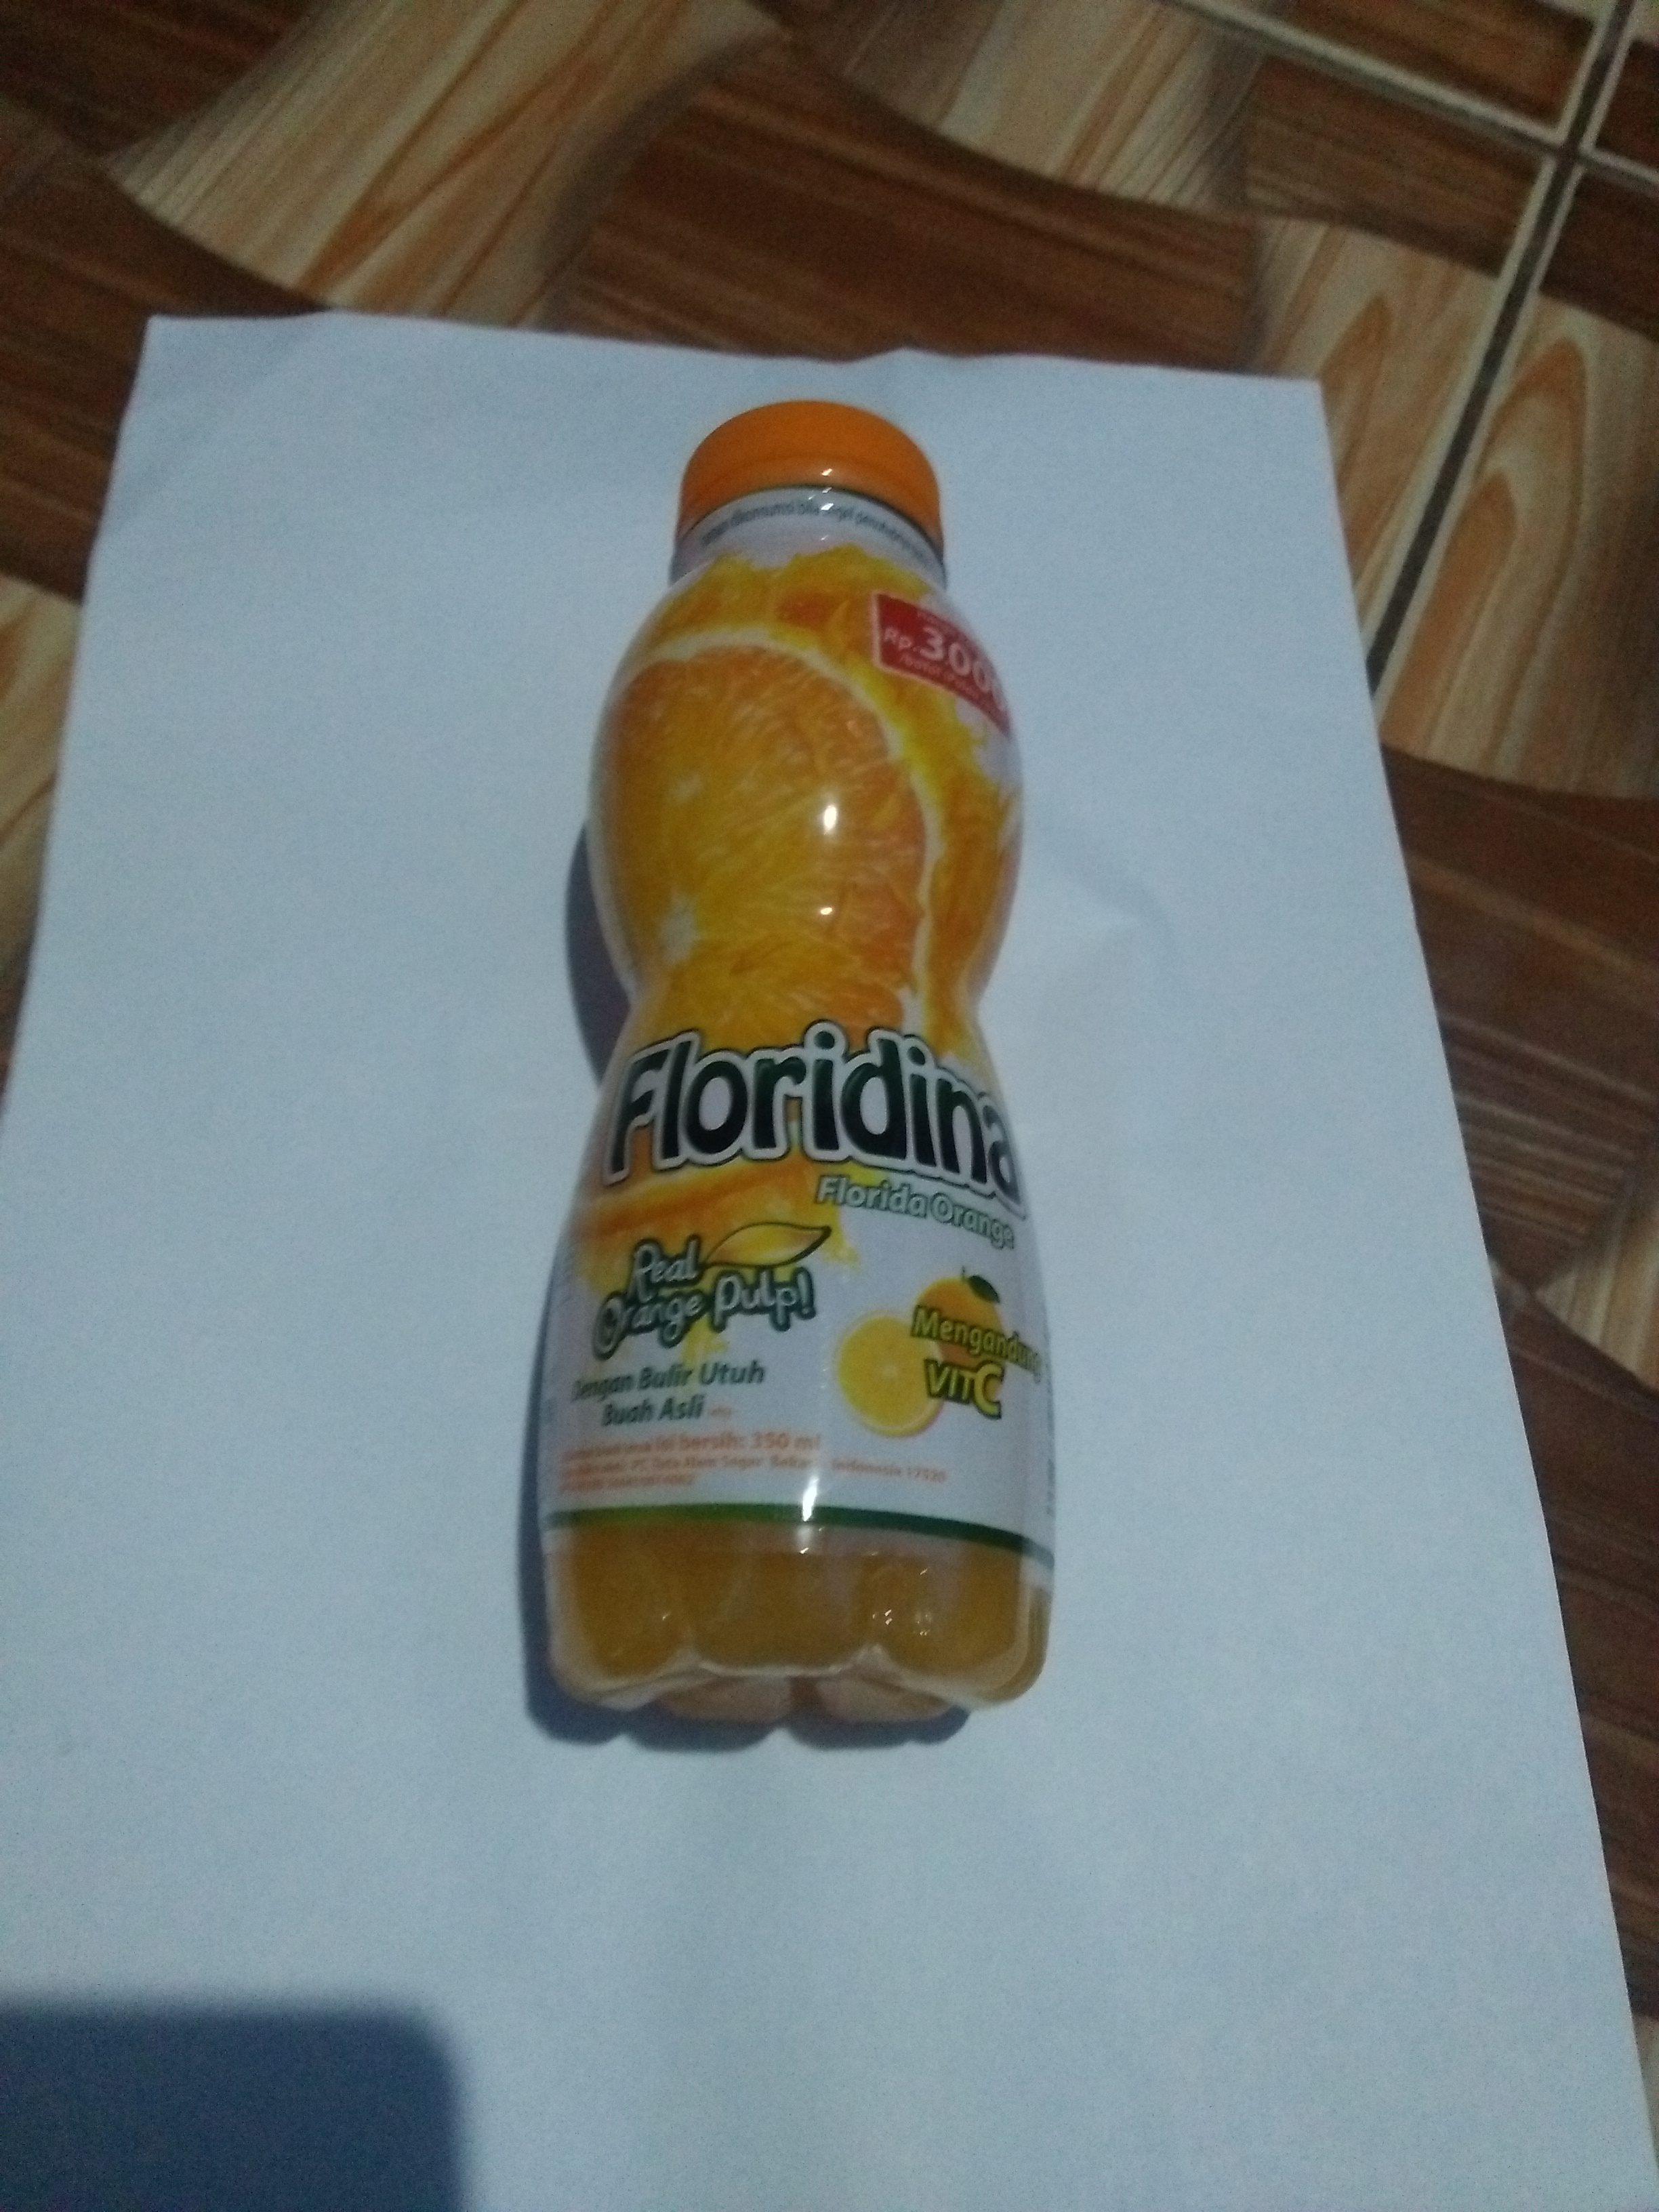Floridina: (528, 376, 1086, 1777)
